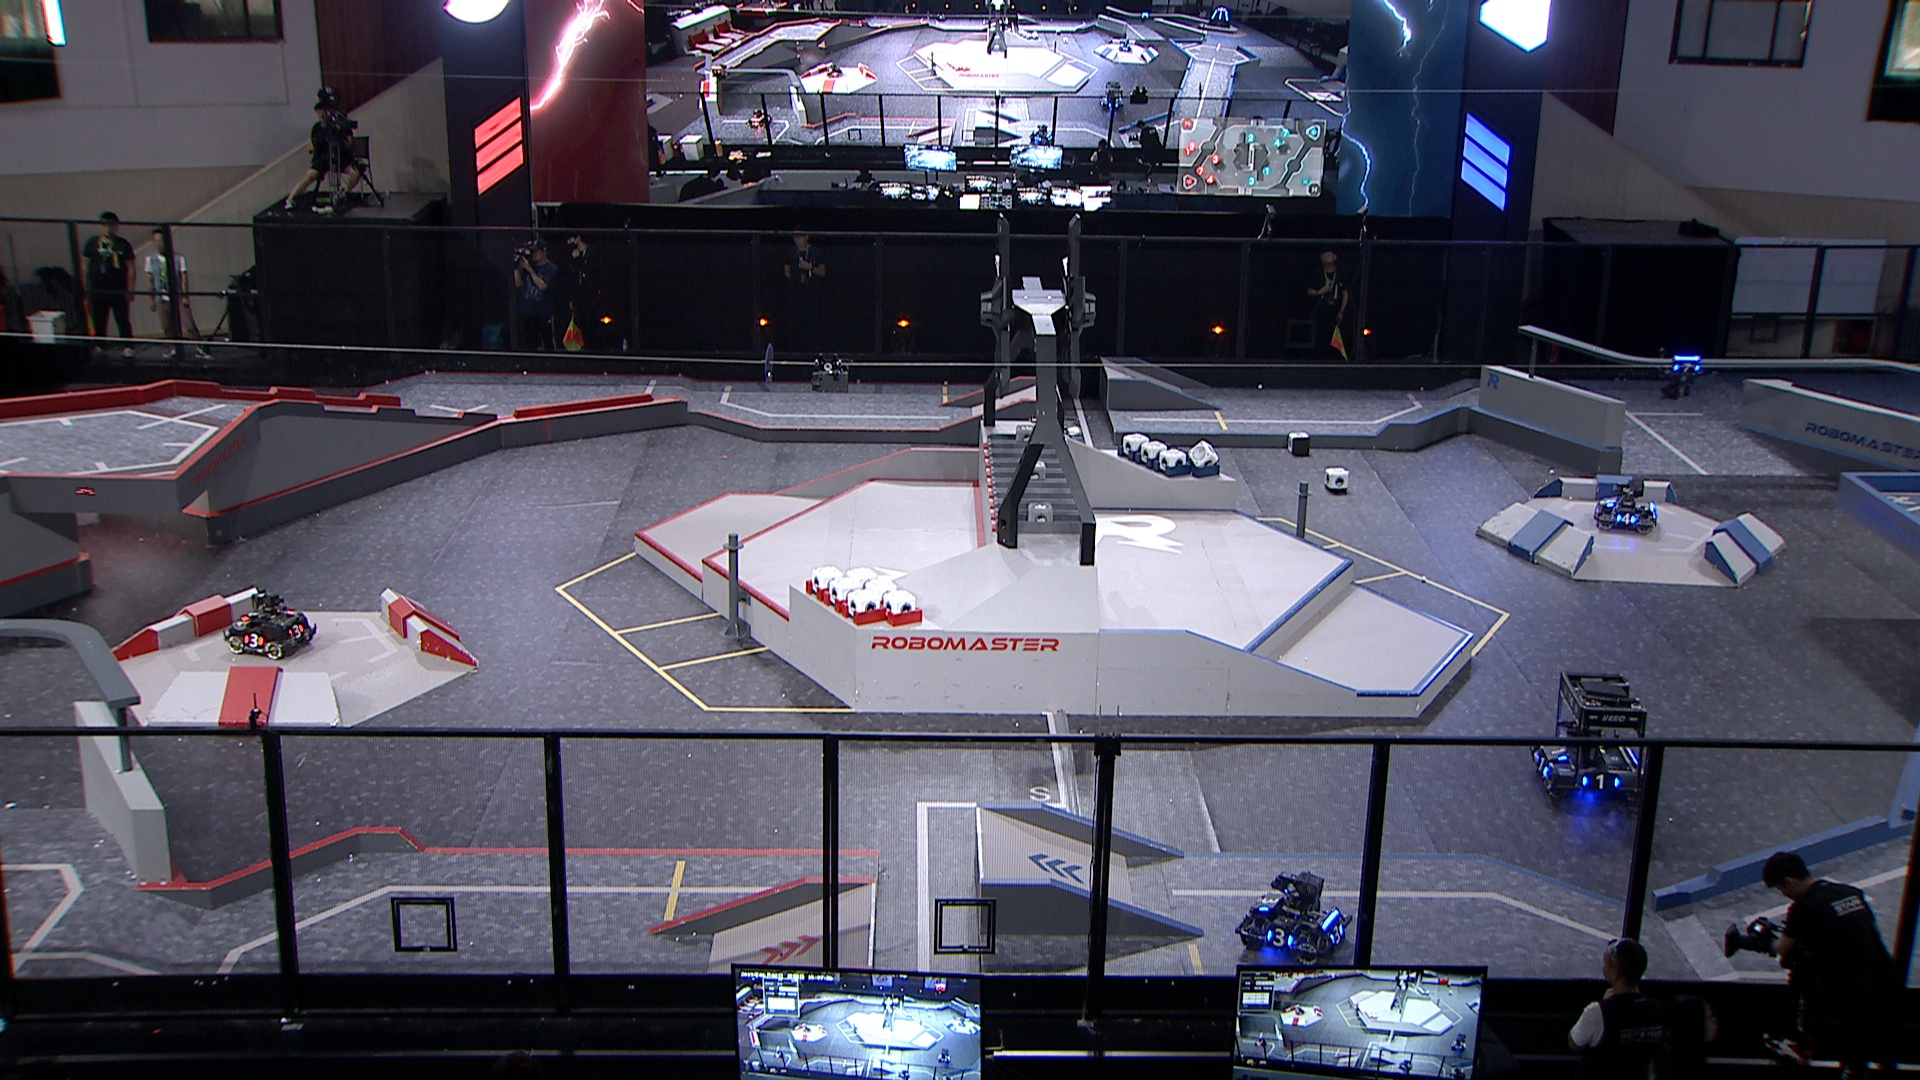armor: (1581, 773, 1622, 790), (1265, 927, 1295, 949), (1258, 891, 1280, 915), (1532, 752, 1551, 777), (1328, 922, 1344, 948), (243, 632, 264, 650), (1547, 745, 1567, 764), (237, 611, 261, 624), (1673, 363, 1700, 373), (1615, 513, 1636, 526), (289, 624, 306, 640)
car: (1528, 673, 1654, 803), (1232, 870, 1356, 969), (224, 589, 315, 661), (1594, 479, 1659, 534)
ignore: (1097, 80, 1125, 111), (746, 107, 774, 131), (1207, 7, 1233, 30), (1027, 124, 1055, 145), (708, 63, 728, 80), (825, 62, 844, 78), (1116, 38, 1133, 53)
watcher: (1656, 348, 1702, 400)
